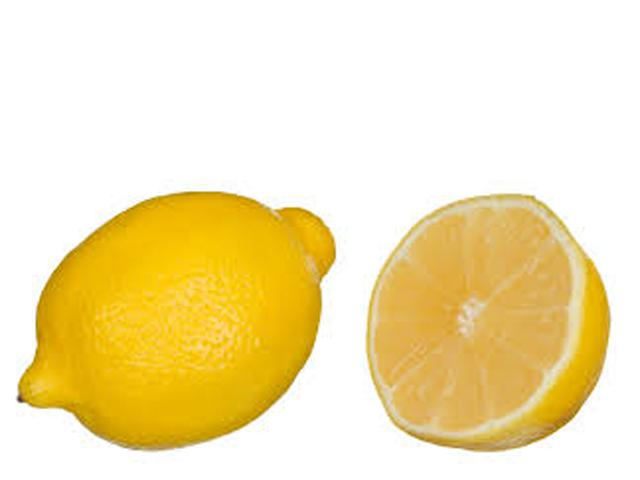lemon: (2, 198, 344, 444)
